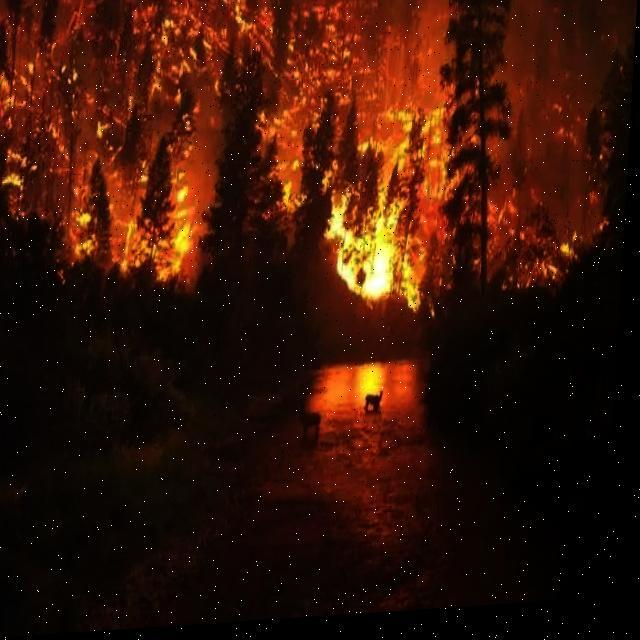Fire: (0, 0, 614, 331)
